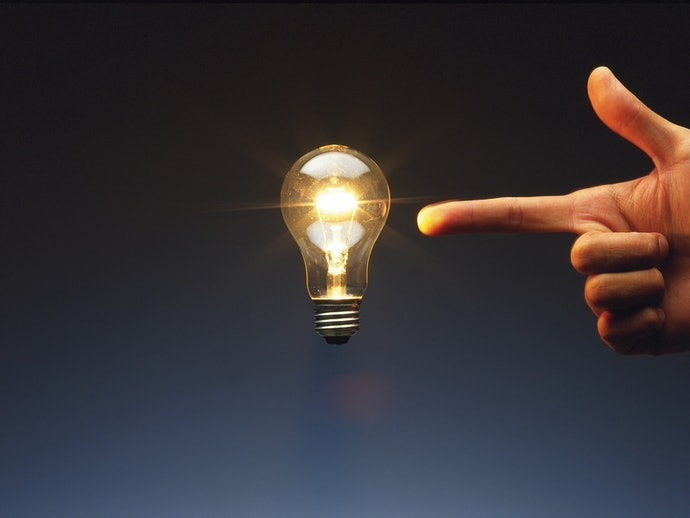Light_bulb: (273, 135, 394, 354)
